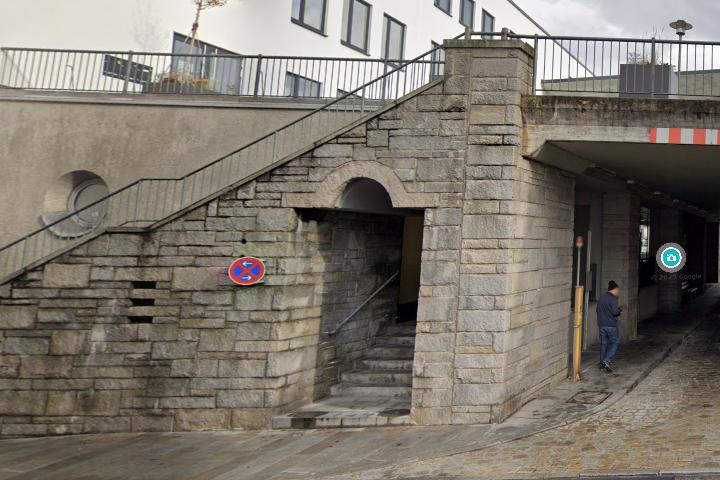google_maps: (660, 246, 684, 269)
traffic_sign: (228, 256, 266, 285)
